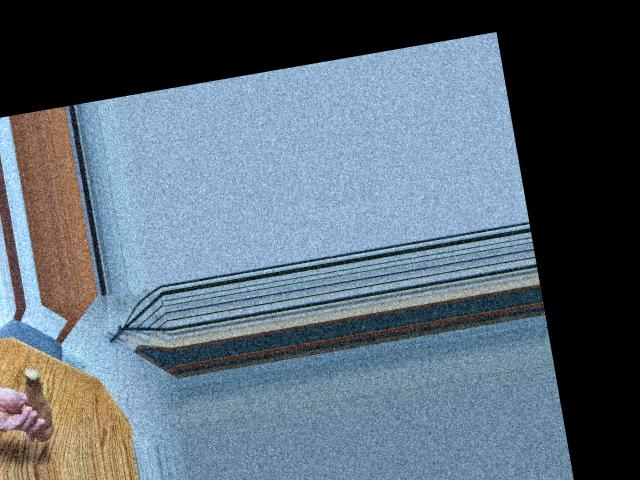sweet_potato: (15, 365, 55, 441)
